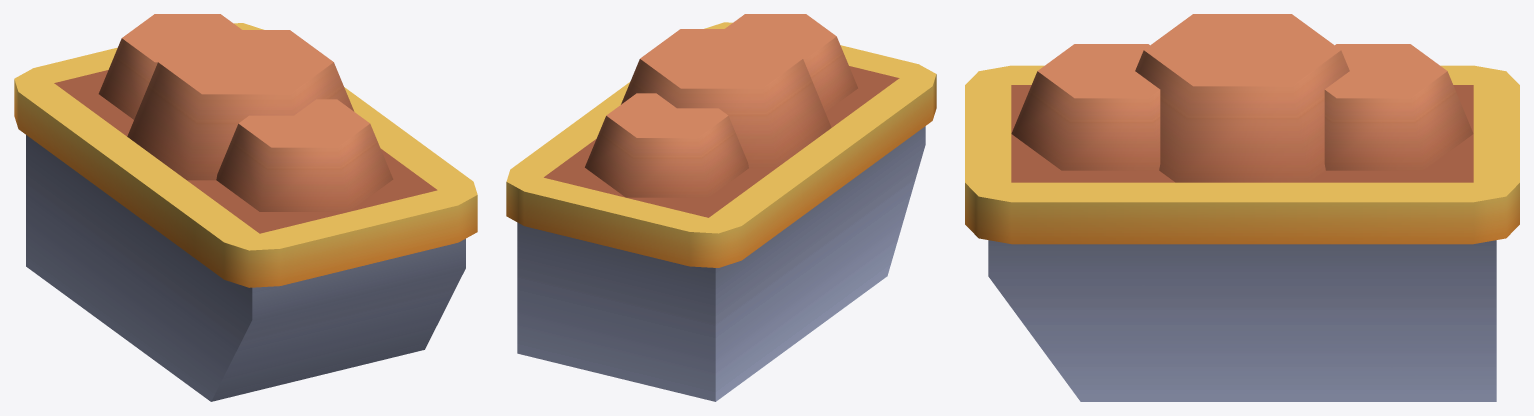
The model's file is skip-rocks.glb.
3 renders of one model, left to right at view 1: azimuth 30°, elevation 25°; view 2: azimuth 150°, elevation 25°; view 3: azimuth 270°, elevation 25°, orthographic. The views are drawn at different scales.
Parts seen in each view (by area): view 1: skip-rocks; view 2: skip-rocks; view 3: skip-rocks.
Part boxes in pixels (bbox=[...]): skip-rocks: bbox=[14, 14, 477, 401]; skip-rocks: bbox=[506, 14, 936, 401]; skip-rocks: bbox=[965, 14, 1519, 401].
Bounding box in the file's own units: 0.7 × 0.7 × 1.2.
1 material, 1 textured.
